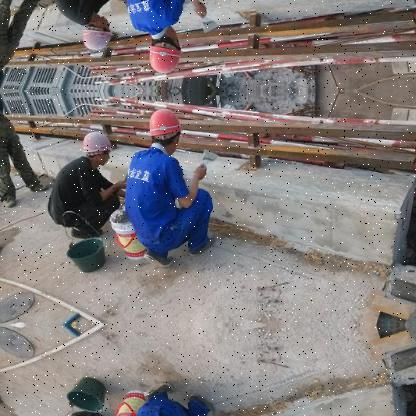helmet: (147, 106, 184, 151), (147, 28, 184, 73), (81, 127, 116, 166), (81, 13, 116, 52)
